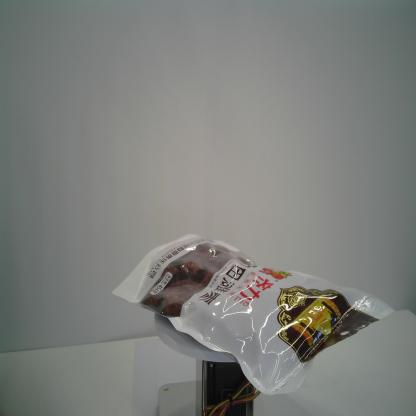Dried Food: (109, 230, 404, 398)
